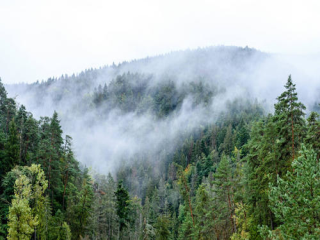smoke: (66, 109, 198, 190)
